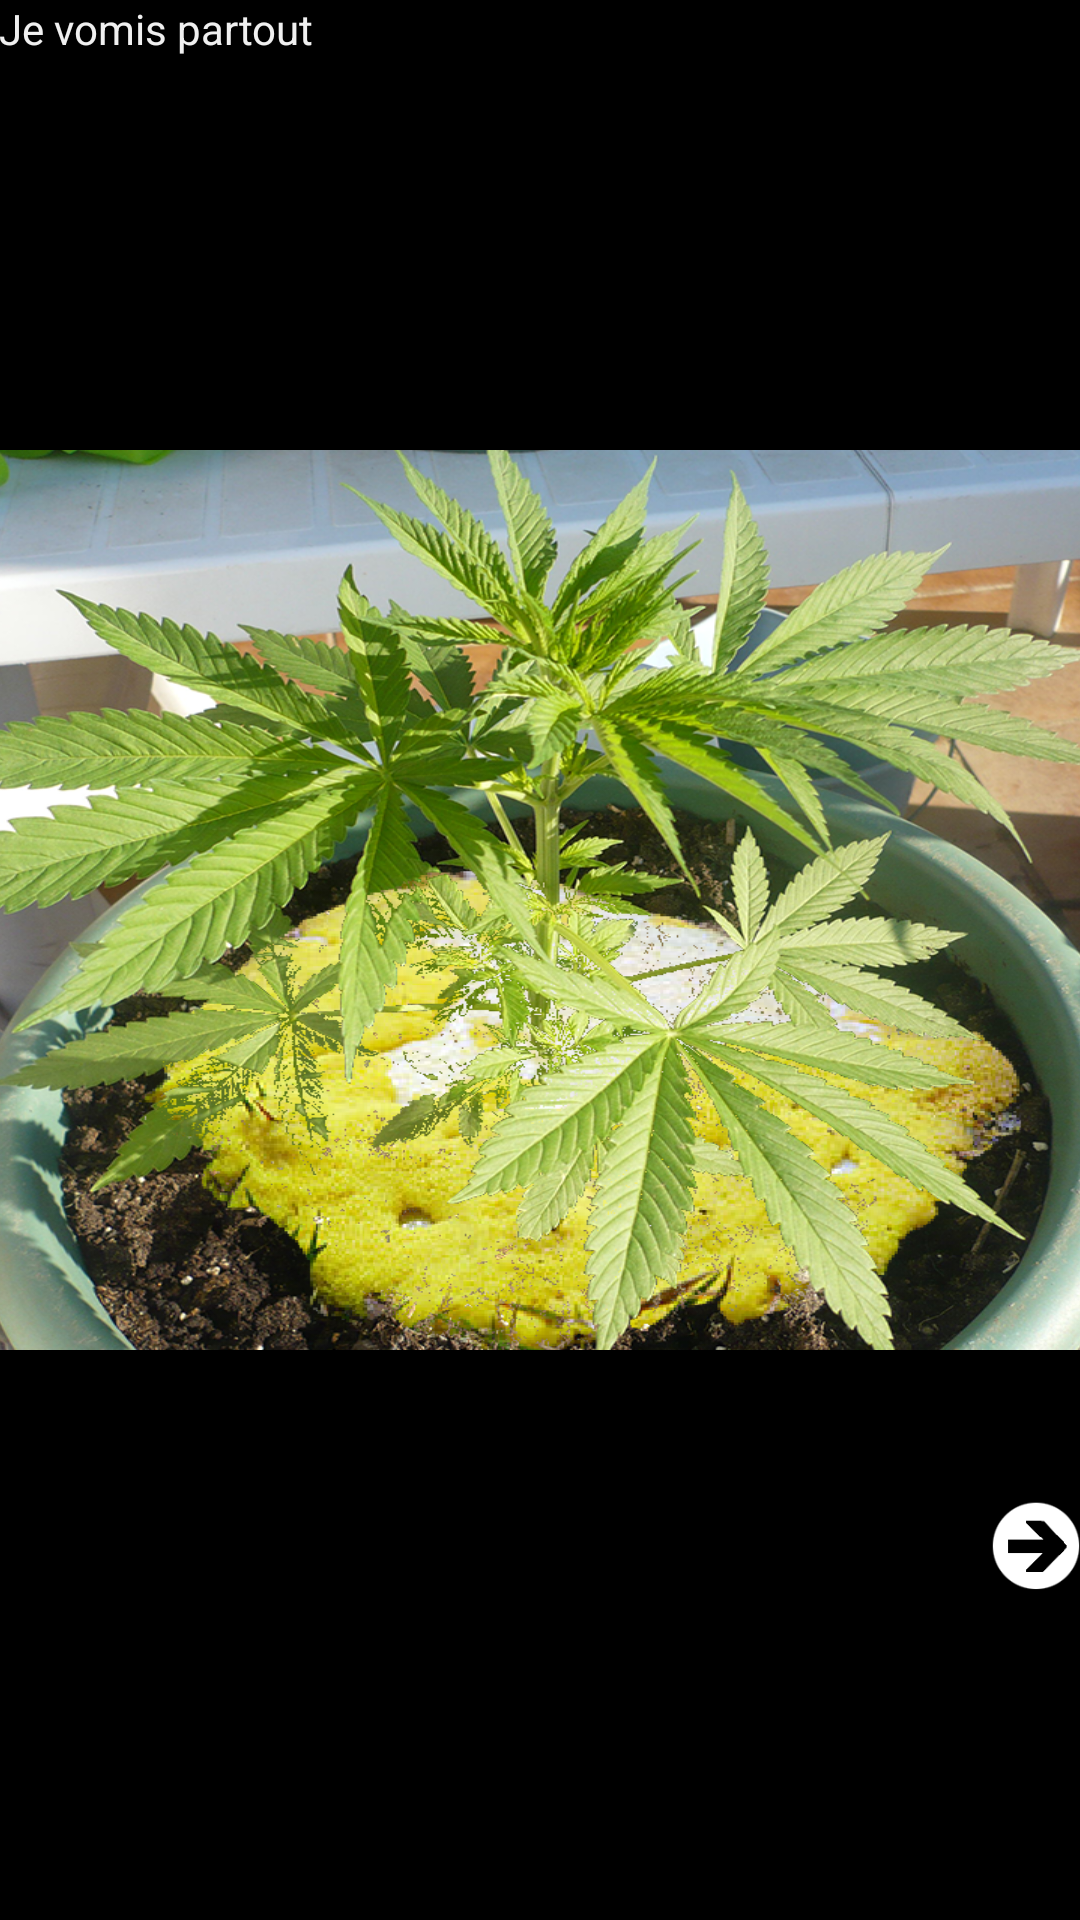

Icon click points for this 1080px×1920px phone screenshot, format [x,y]:
bouton fleche droite: [1036,1545]
